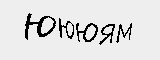М: (115, 20, 134, 44)
Ю: (22, 12, 56, 41), (76, 19, 98, 44), (56, 18, 76, 41)
Я: (100, 20, 115, 48)
